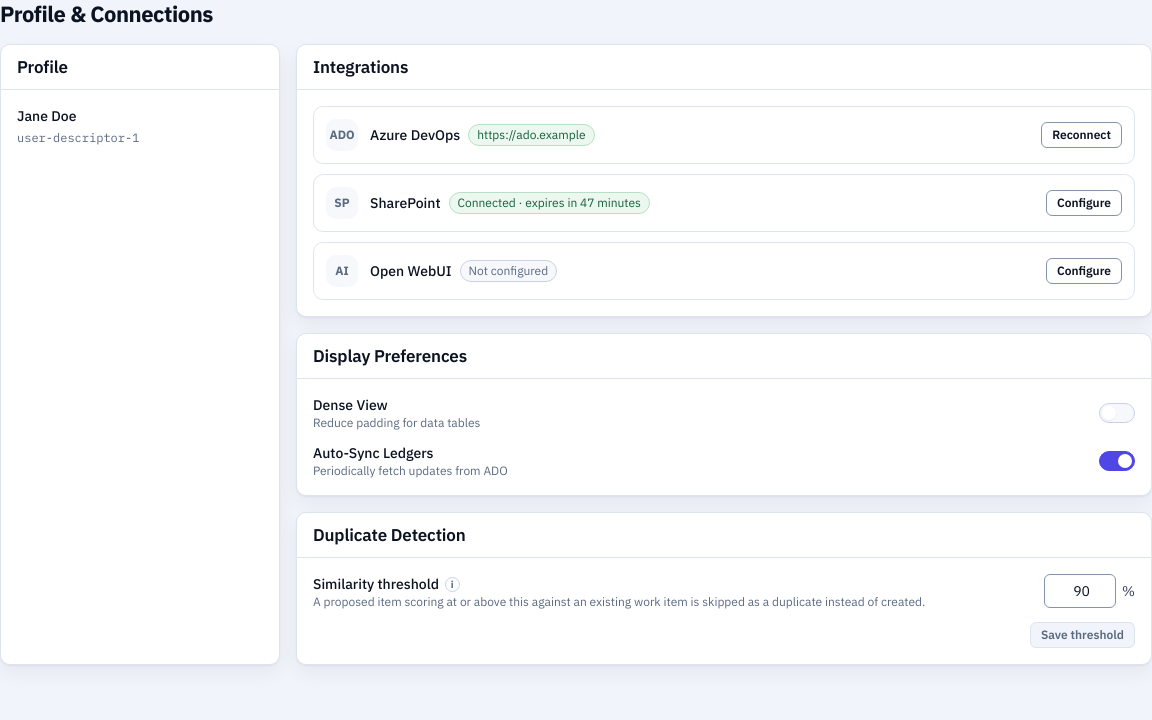
Test case: Settings › Open WebUI integration row + dialog › loads the model catalog for a pasted token and saves the selected model (vision-capable only shown in picker)
This screenshot has width=1152, height=720.
Check: the text "Open WebUI" is shown, box [370, 262, 452, 280]
Click the button "Configure" in the row of "Not configured": (1084, 271) [1046, 258, 1122, 284]
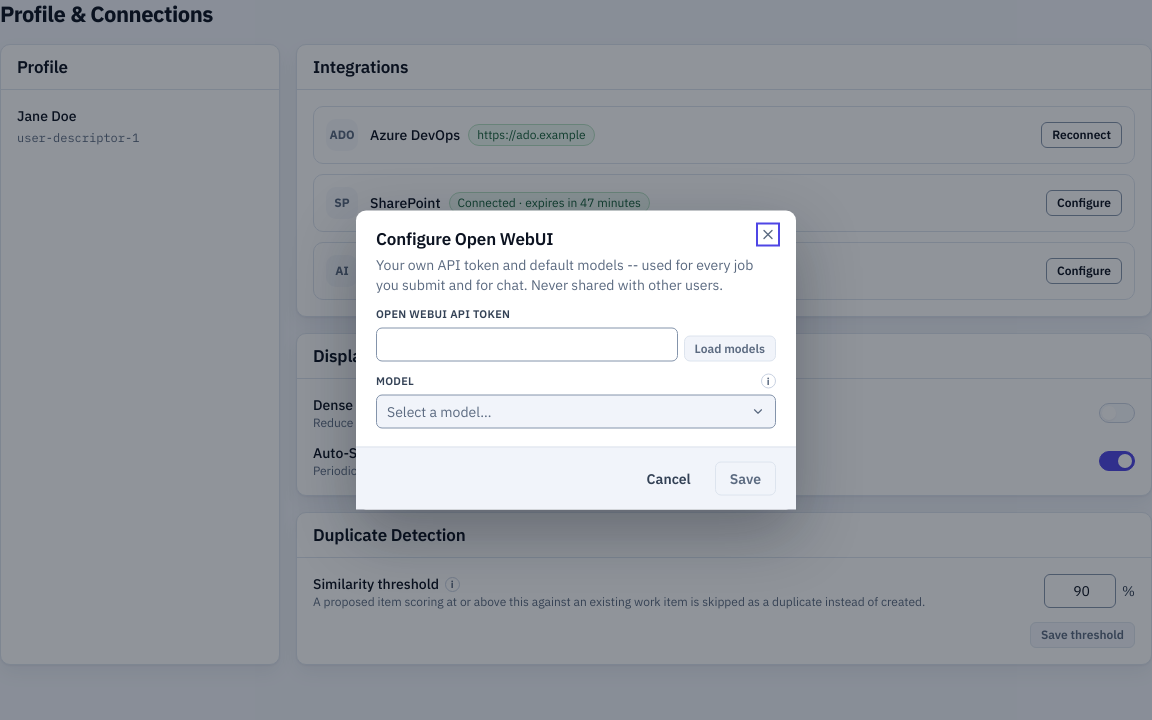
In the password field labelled "Open WebUI API token": (527, 344) [376, 328, 678, 362], type "sk-test-token"
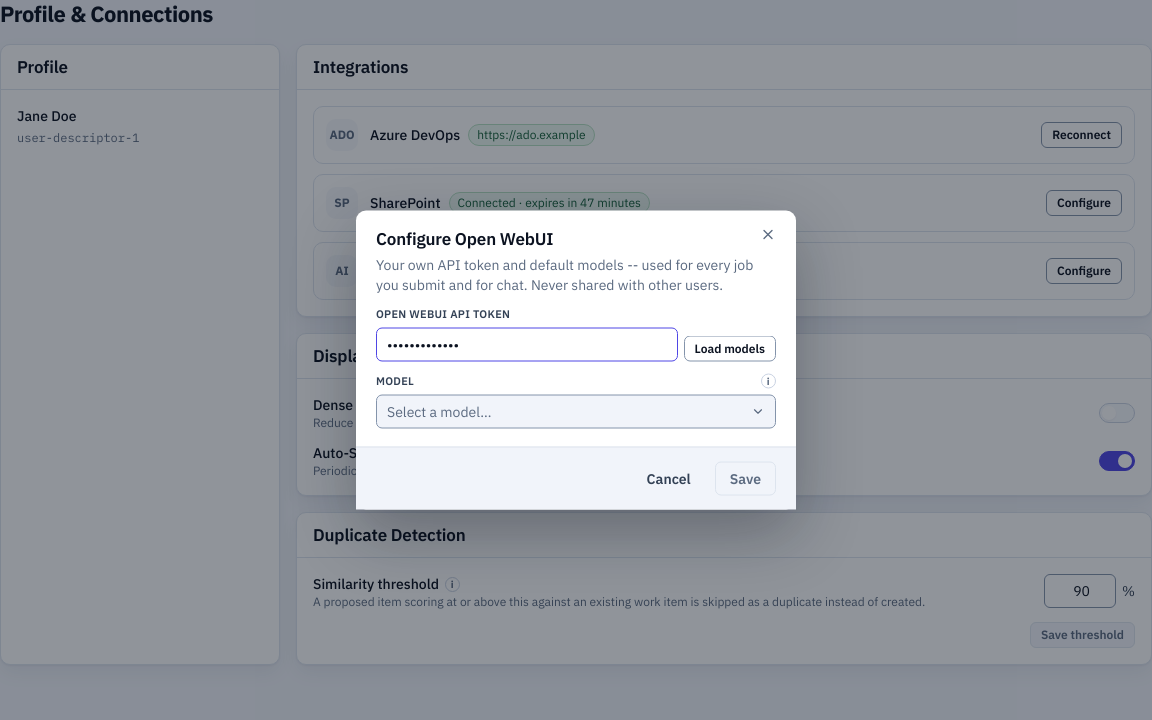
Click the button "Load models": (730, 348) [684, 336, 776, 362]
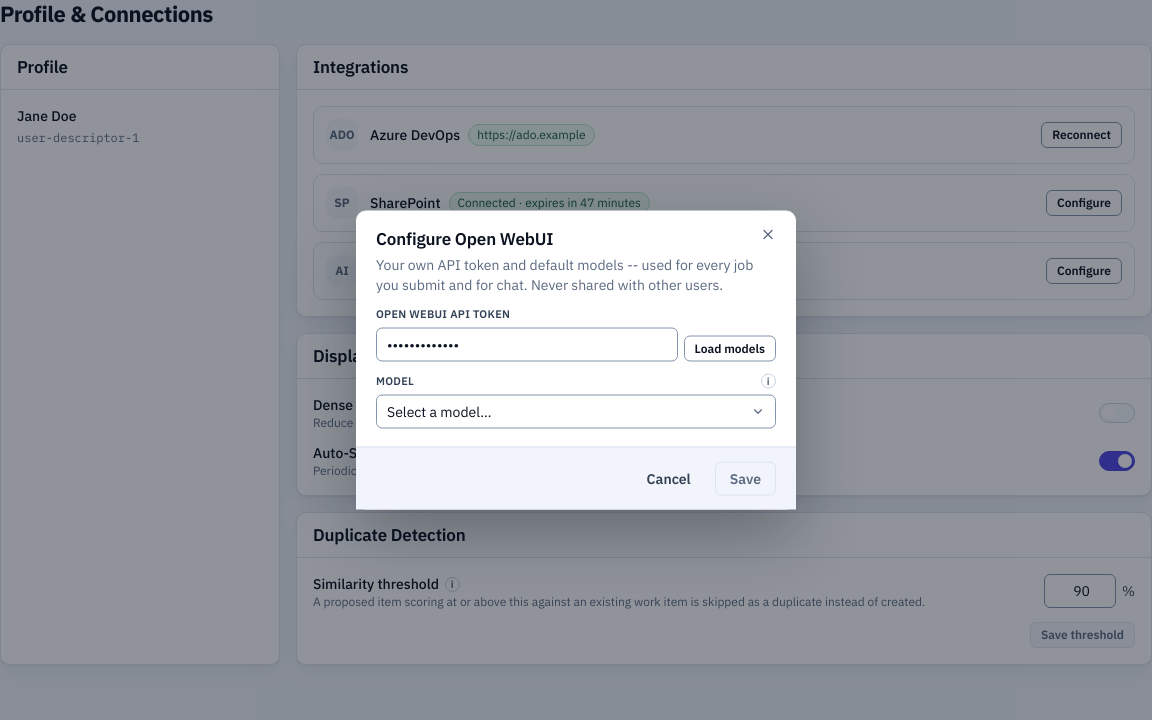
Click the dropdown labelled "Select a model…": (439, 412) [376, 394, 776, 428]
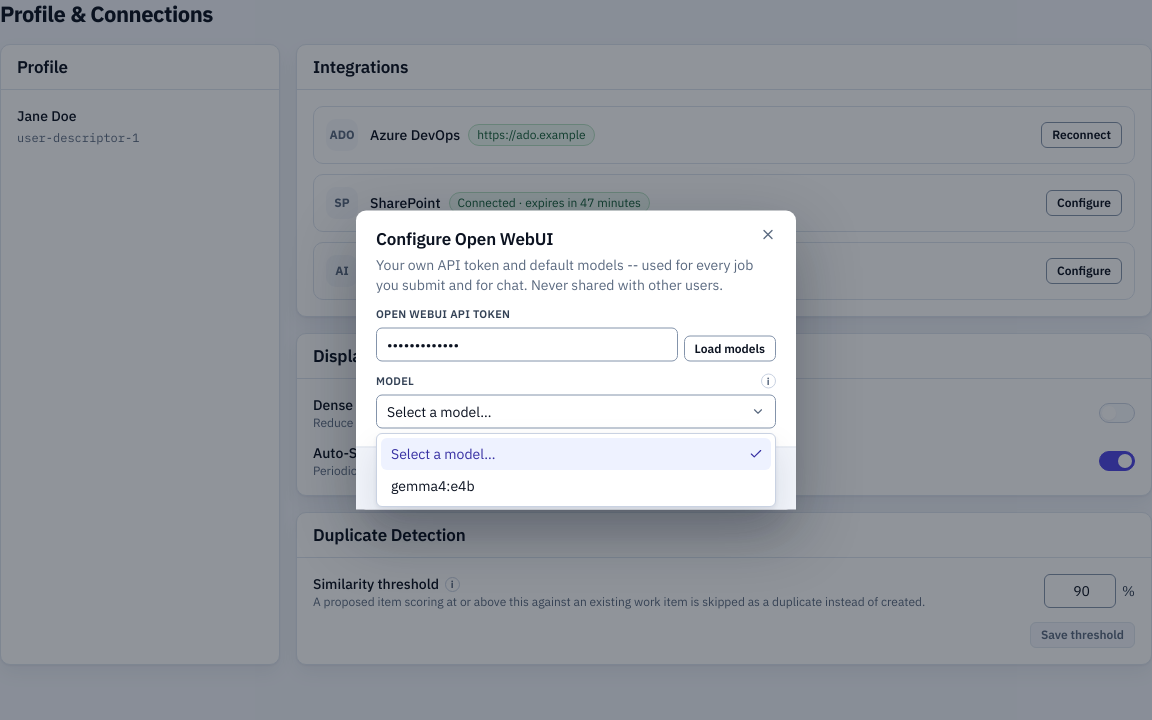
Click the option "gemma4:e4b": (433, 486) [391, 477, 475, 495]
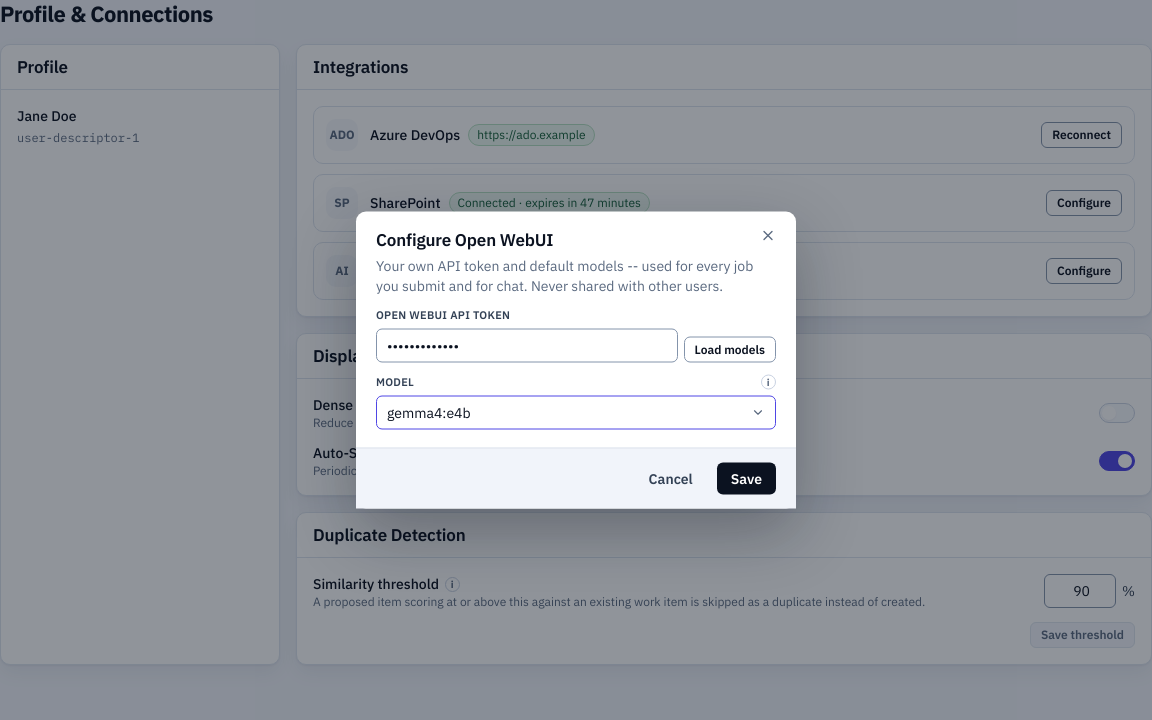
Click the button "Save": (746, 478) [717, 462, 776, 494]
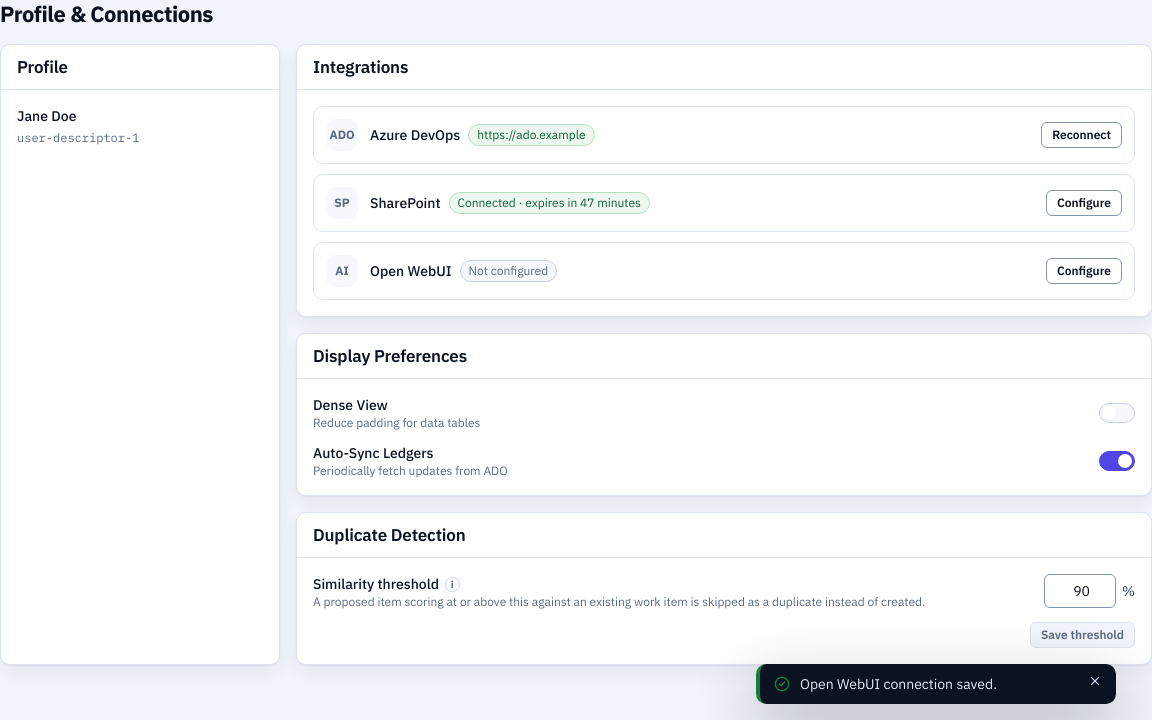
Check: the text "Open WebUI connection saved." is shown, box [800, 675, 997, 693]
